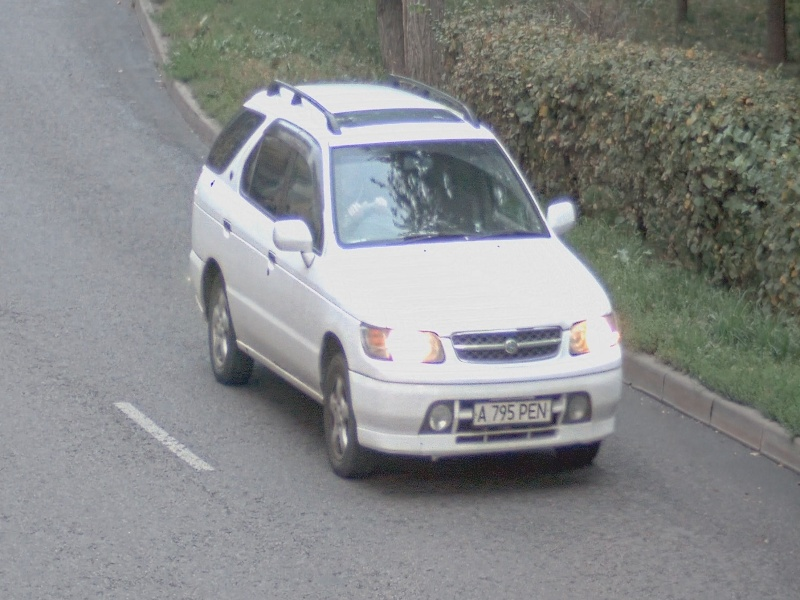plate: (472, 397, 553, 427)
